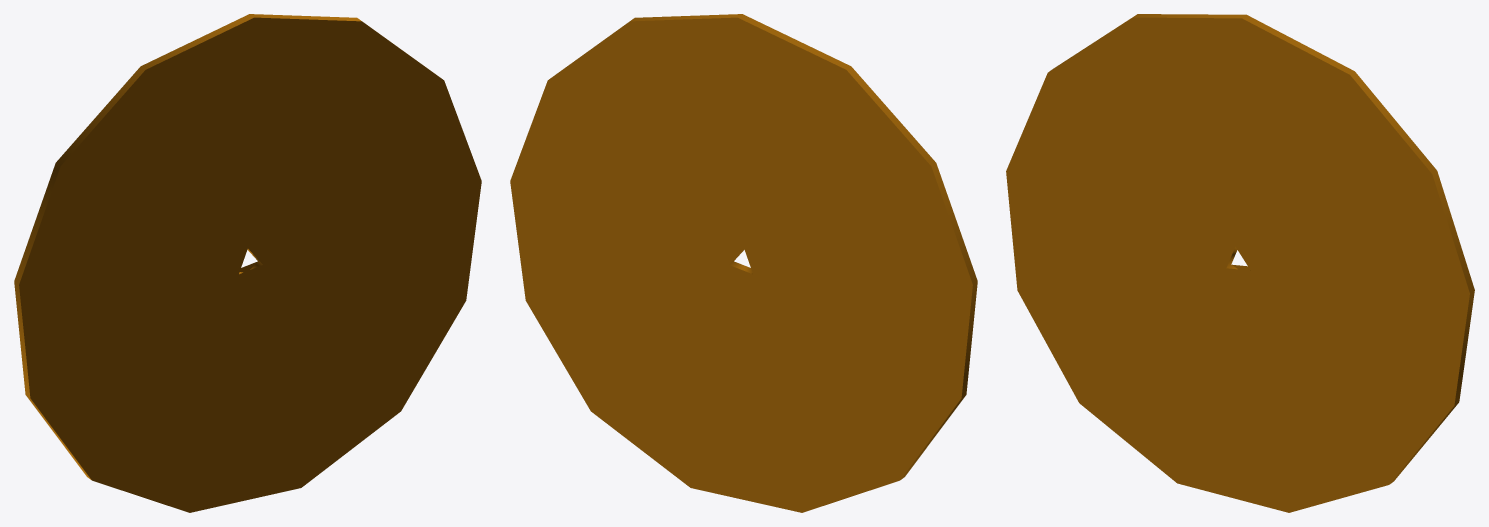
File: Copie de Disque en laiton^Copie de Assemblage2_Horloge Comtoise Verge - Sonnerie_instance_1.obj
3 renders of one model, left to right at view 1: azimuth 30°, elevation 25°; view 2: azimuth 150°, elevation 25°; view 3: azimuth 330°, elevation 25°, orthographic.
Parts seen in each view (by area): view 1: Face_4, Face_3; view 2: Face_1, Face_3; view 3: Face_4, Face_3.
Boxes of the visible parts, x1,y1,x2,y2 form: Face_4: (19, 17, 481, 512); Face_3: (14, 14, 361, 479); Face_1: (510, 17, 972, 512); Face_3: (630, 14, 977, 479); Face_4: (1006, 17, 1469, 512); Face_3: (1050, 14, 1474, 483).
Size of the model in its own units: 0.0328 by 0.0326 by 0.0006.
